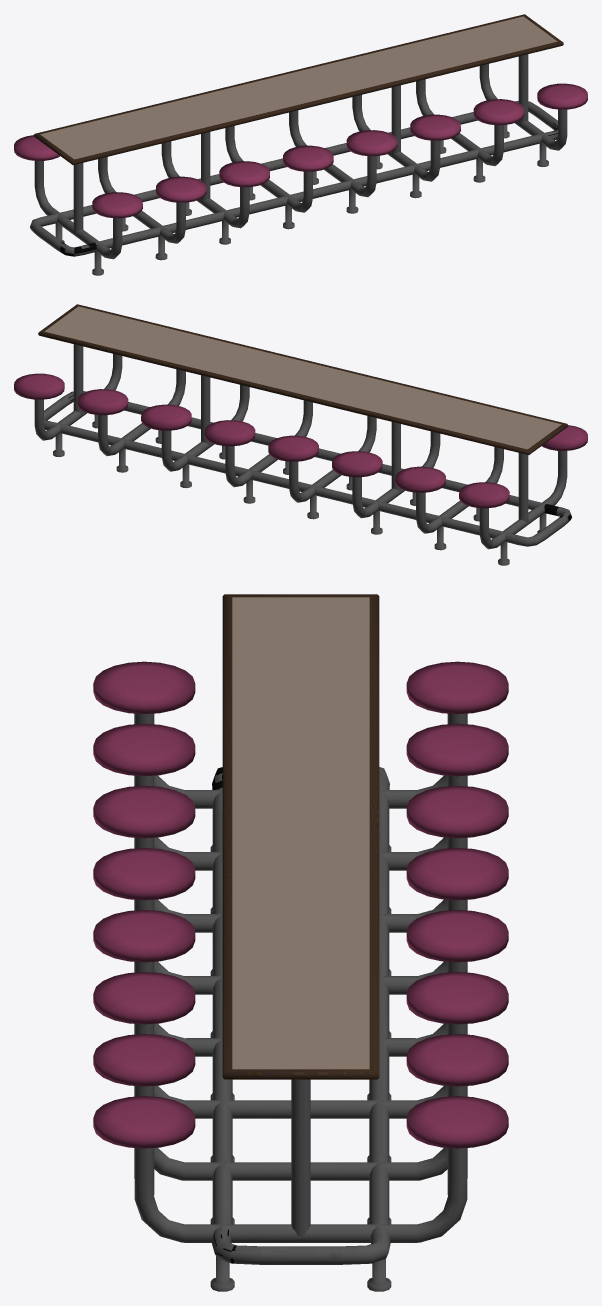
Rendered from cafe_bar.obj.
3 views of the same model, one above another, from view 1: azimuth 30°, elevation 25°; view 2: azimuth 150°, elevation 25°; view 3: azimuth 270°, elevation 25° (orthographic). The views are drawn at different scales.
Visible parts, largest first — view 1: CafeBar_cafe_bar; view 2: CafeBar_cafe_bar; view 3: CafeBar_cafe_bar.
Boxes of the visible parts, left/top/right/bottom form: CafeBar_cafe_bar: left=14, top=14, right=587, bottom=275; CafeBar_cafe_bar: left=14, top=304, right=587, bottom=565; CafeBar_cafe_bar: left=93, top=594, right=508, bottom=1291.
Bounding box in the file's own units: 5.95 × 1.32 × 2.12.
